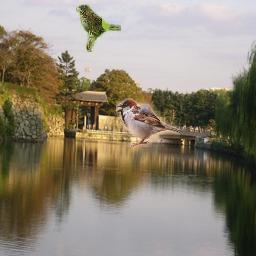Sparrow: (116, 98, 180, 147), (76, 4, 121, 52)
